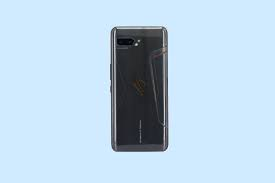asus: (106, 22, 173, 154)
